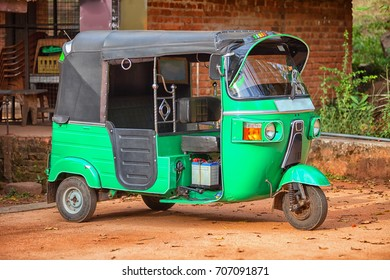threewheel: (44, 28, 331, 231)
